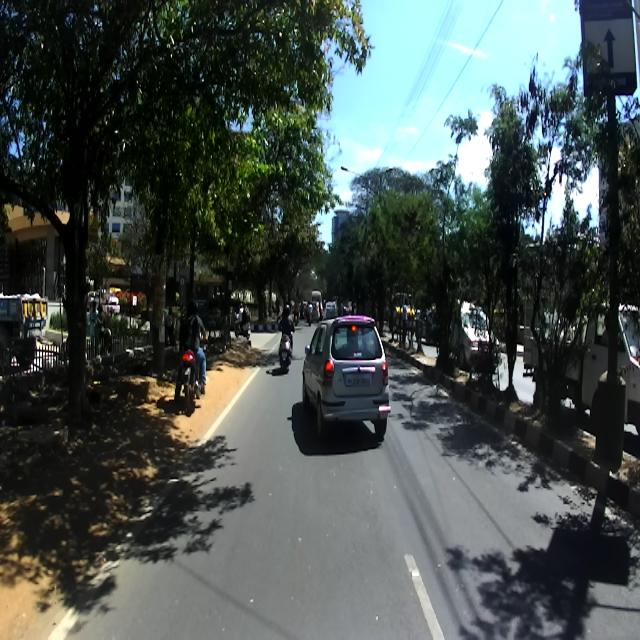car ahead at: (301, 312, 396, 444)
motorcycle ahead at: (175, 349, 211, 415), (274, 300, 300, 378)
tree ahead at: (2, 8, 170, 438)
